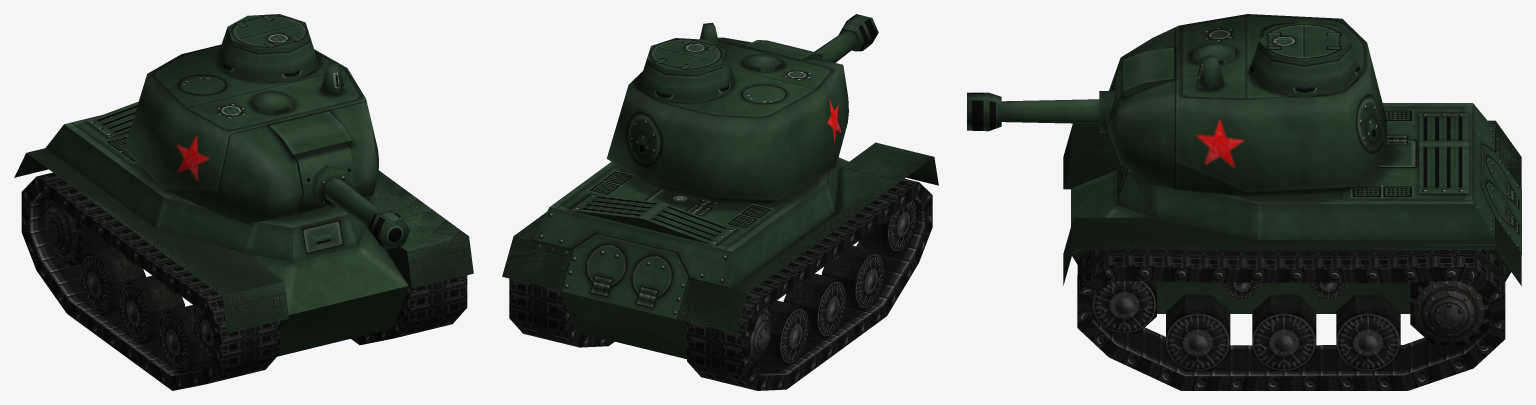
The model's file is IS-2_SD_Model_Track.FBX.
3 renders of one model, left to right at view 1: azimuth 30°, elevation 25°; view 2: azimuth 150°, elevation 25°; view 3: azimuth 270°, elevation 25°, orthographic. The views are drawn at different scales.
Parts seen in each view (by area): view 1: Body, Turret, RightTrack, Cannon, LeftTrack; view 2: Body, Turret, RightTrack, LeftTrack, Cannon; view 3: LeftTrack, Body, Turret, Cannon.
Part boxes in pixels (left/top/right/bottom): Body: left=14, top=101, right=473, bottom=356; Turret: left=124, top=14, right=378, bottom=223; RightTrack: left=21, top=172, right=279, bottom=390; Cannon: left=293, top=142, right=410, bottom=249; LeftTrack: left=351, top=275, right=467, bottom=345; Body: left=502, top=142, right=938, bottom=358; Turret: left=606, top=22, right=848, bottom=204; RightTrack: left=687, top=178, right=932, bottom=390; LeftTrack: left=509, top=279, right=614, bottom=347; Cannon: left=814, top=14, right=878, bottom=62; LeftTrack: left=1077, top=250, right=1505, bottom=390; Body: left=1063, top=103, right=1521, bottom=313; Turret: left=1108, top=14, right=1386, bottom=196; Cannon: left=967, top=68, right=1124, bottom=132.
Bounding box in the file's own units: 1.16 × 1.24 × 2.06.
2 materials, 2 textured.
